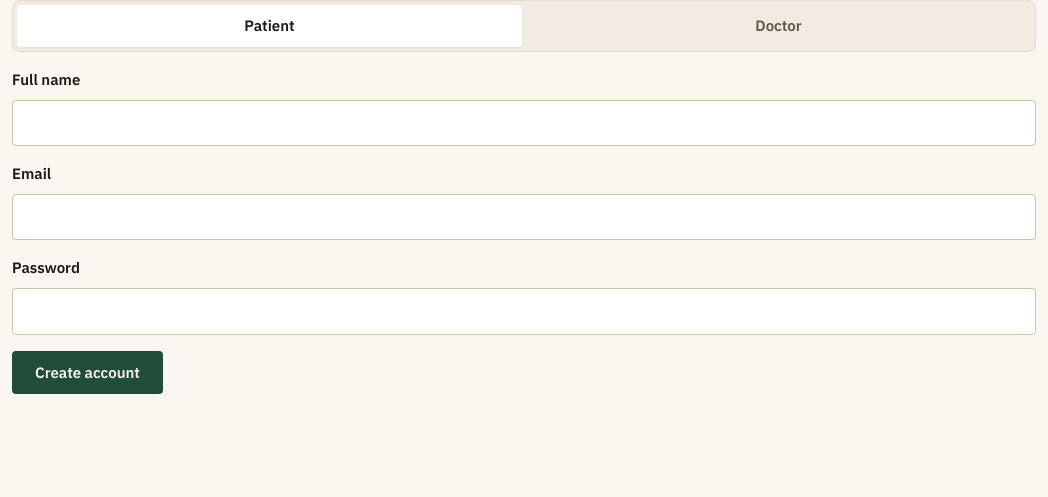
Scenario: SignupForm › shows validation errors instead of submitting when fields are empty
Click the button "Create account".
click(87, 372)  # box [12,351,163,394]
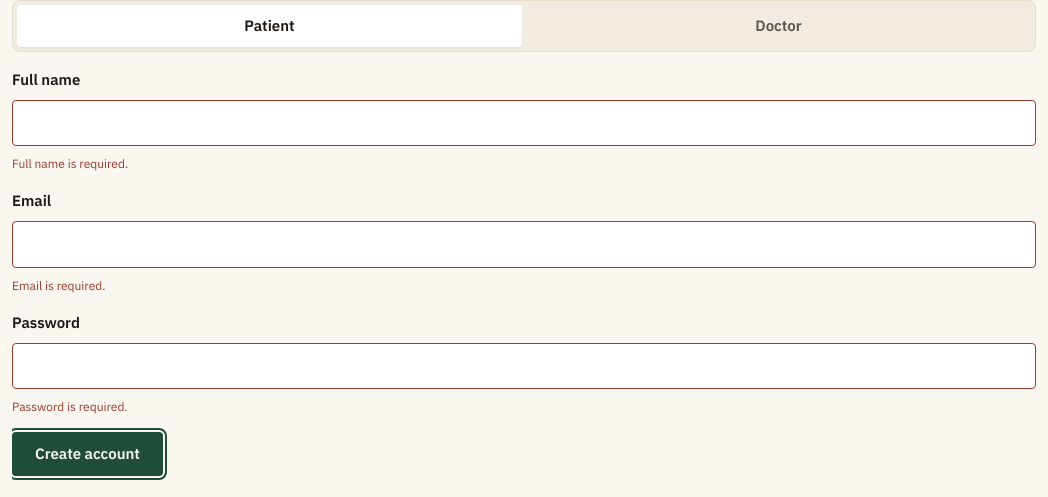
Now the text "Full name is required." is shown, box [12,156,128,171]
Now the text "Email is required." is shown, box [12,278,106,292]
Now the text "Password is required." is shown, box [12,399,128,414]
